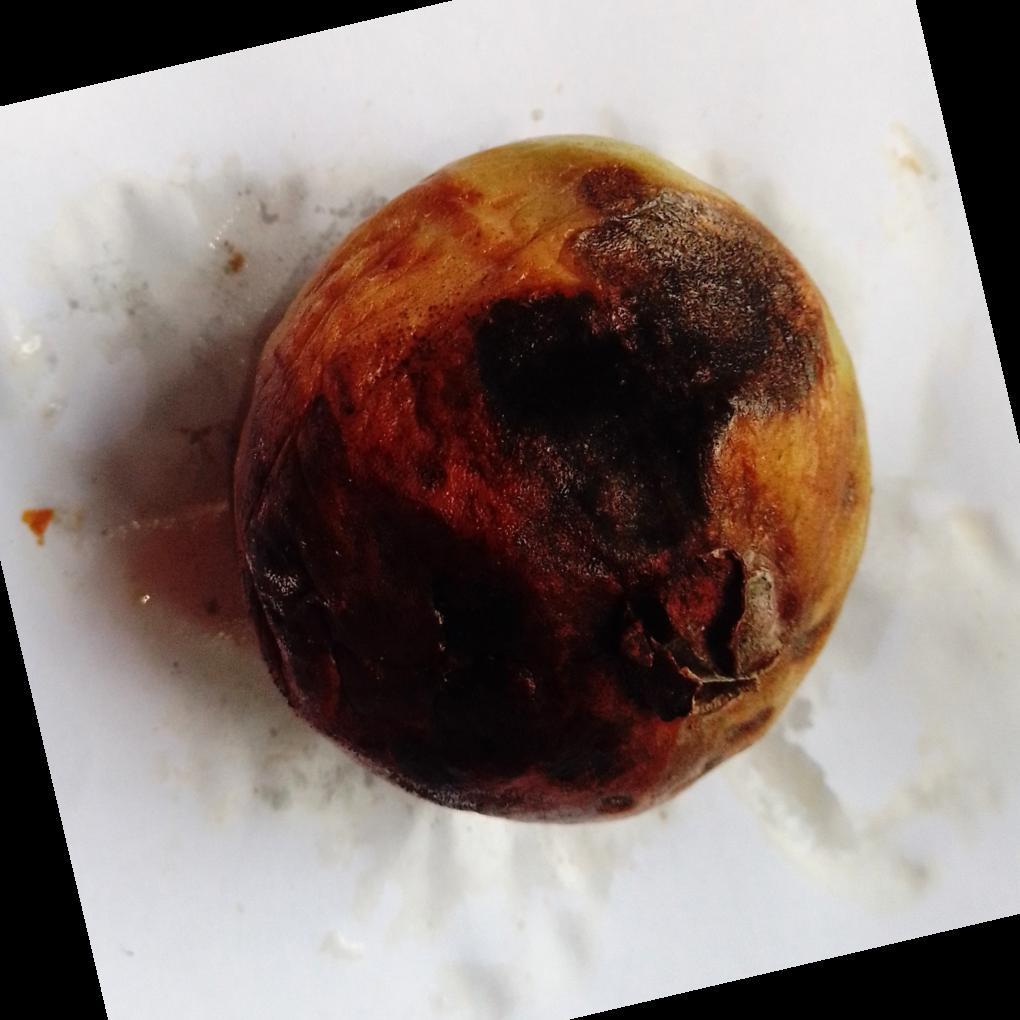FreshOrange: (229, 136, 875, 830)
